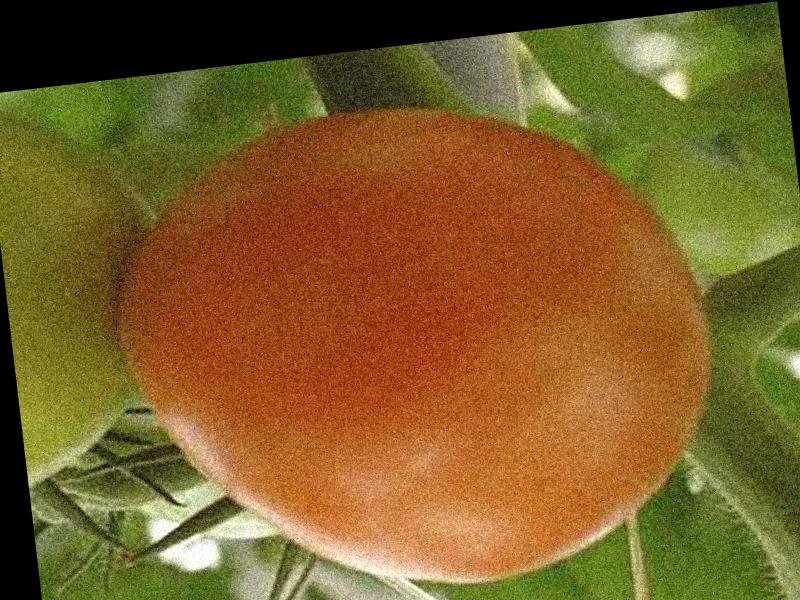Tomato: (100, 74, 734, 600)
